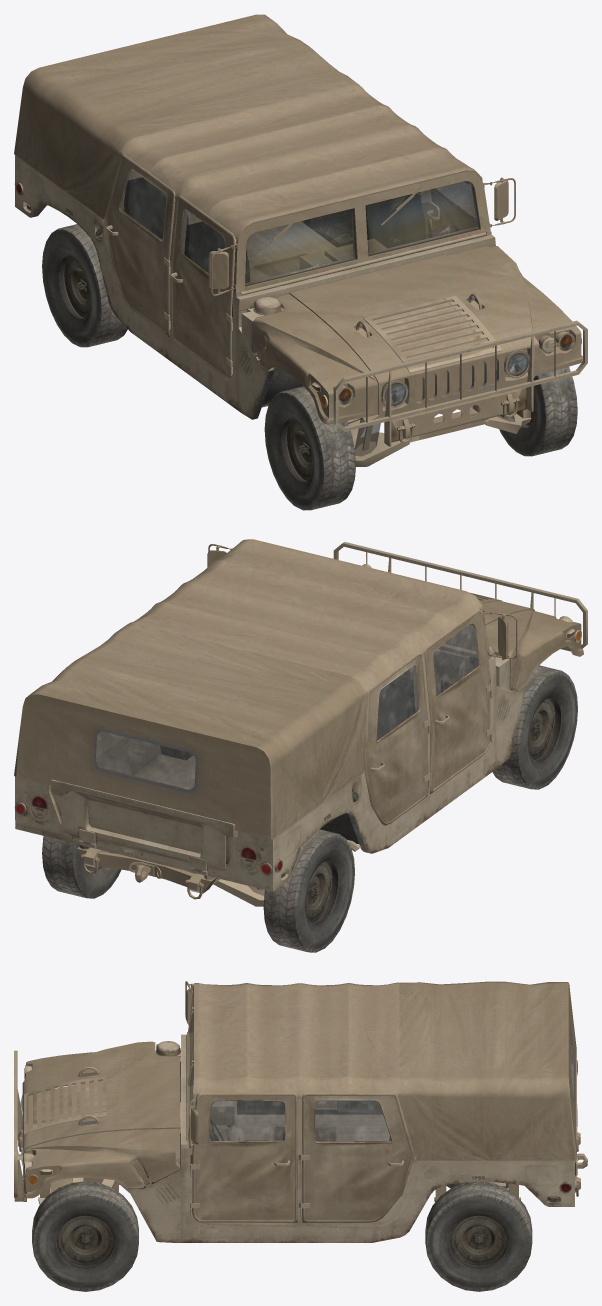
The picture shows the model from 3 angles, top to bottom: view 1: azimuth 30°, elevation 25°; view 2: azimuth 150°, elevation 25°; view 3: azimuth 270°, elevation 25°; orthographic projection. The views are drawn at different scales.
Parts seen in each view (by area): view 1: Object_HMMWV_Utility_mat4_D.jpg_mat_6-HMMWV_Utility_mat4_D.j, Object_HMMWV_Utility_mat1_D.jpg_mat_0-HMMWV_Utility_mat1_D.j, Object_HMMWV_Utility_mat3_D.jpg_mat_1-HMMWV_Utility_mat3_D.j, Object_HMMWV_Utility_mat2_D.jpg_mat_2-HMMWV_Utility_mat2_D.j, Object_HMMWV_Utility_mat5_D.jpg_mat_3-HMMWV_Utility_mat5_D.j, Object_HMMWV_Utility_mat6_D.jpg_mat_4-HMMWV_Utility_mat6_D.j, Object_HMMWV_Utility_mat7_D.jpg_mat_5-HMMWV_Utility_mat7_D.j; view 2: Object_HMMWV_Utility_mat4_D.jpg_mat_6-HMMWV_Utility_mat4_D.j, Object_HMMWV_Utility_mat2_D.jpg_mat_2-HMMWV_Utility_mat2_D.j, Object_HMMWV_Utility_mat3_D.jpg_mat_1-HMMWV_Utility_mat3_D.j, Object_HMMWV_Utility_mat1_D.jpg_mat_0-HMMWV_Utility_mat1_D.j, Object_HMMWV_Utility_mat7_D.jpg_mat_5-HMMWV_Utility_mat7_D.j, Object_HMMWV_Utility_mat6_D.jpg_mat_4-HMMWV_Utility_mat6_D.j, Object_HMMWV_Utility_mat5_D.jpg_mat_3-HMMWV_Utility_mat5_D.j; view 3: Object_HMMWV_Utility_mat4_D.jpg_mat_6-HMMWV_Utility_mat4_D.j, Object_HMMWV_Utility_mat1_D.jpg_mat_0-HMMWV_Utility_mat1_D.j, Object_HMMWV_Utility_mat3_D.jpg_mat_1-HMMWV_Utility_mat3_D.j, Object_HMMWV_Utility_mat2_D.jpg_mat_2-HMMWV_Utility_mat2_D.j, Object_HMMWV_Utility_mat7_D.jpg_mat_5-HMMWV_Utility_mat7_D.j, Object_HMMWV_Utility_mat6_D.jpg_mat_4-HMMWV_Utility_mat6_D.j, Object_HMMWV_Utility_mat5_D.jpg_mat_3-HMMWV_Utility_mat5_D.j.
Boxes of the visible parts, bbox=[...] form: Object_HMMWV_Utility_mat4_D.jpg_mat_6-HMMWV_Utility_mat4_D.j: bbox=[14, 14, 482, 379]; Object_HMMWV_Utility_mat1_D.jpg_mat_0-HMMWV_Utility_mat1_D.j: bbox=[181, 171, 582, 466]; Object_HMMWV_Utility_mat3_D.jpg_mat_1-HMMWV_Utility_mat3_D.j: bbox=[42, 177, 577, 510]; Object_HMMWV_Utility_mat2_D.jpg_mat_2-HMMWV_Utility_mat2_D.j: bbox=[14, 155, 581, 419]; Object_HMMWV_Utility_mat5_D.jpg_mat_3-HMMWV_Utility_mat5_D.j: bbox=[245, 181, 572, 456]; Object_HMMWV_Utility_mat6_D.jpg_mat_4-HMMWV_Utility_mat6_D.j: bbox=[333, 320, 587, 446]; Object_HMMWV_Utility_mat7_D.jpg_mat_5-HMMWV_Utility_mat7_D.j: bbox=[120, 170, 475, 272]; Object_HMMWV_Utility_mat4_D.jpg_mat_6-HMMWV_Utility_mat4_D.j: bbox=[14, 539, 492, 838]; Object_HMMWV_Utility_mat2_D.jpg_mat_2-HMMWV_Utility_mat2_D.j: bbox=[14, 564, 581, 891]; Object_HMMWV_Utility_mat3_D.jpg_mat_1-HMMWV_Utility_mat3_D.j: bbox=[42, 649, 577, 952]; Object_HMMWV_Utility_mat1_D.jpg_mat_0-HMMWV_Utility_mat1_D.j: bbox=[76, 544, 583, 906]; Object_HMMWV_Utility_mat7_D.jpg_mat_5-HMMWV_Utility_mat7_D.j: bbox=[96, 624, 478, 789]; Object_HMMWV_Utility_mat6_D.jpg_mat_4-HMMWV_Utility_mat6_D.j: bbox=[333, 542, 587, 651]; Object_HMMWV_Utility_mat5_D.jpg_mat_3-HMMWV_Utility_mat5_D.j: bbox=[32, 624, 573, 895]; Object_HMMWV_Utility_mat4_D.jpg_mat_6-HMMWV_Utility_mat4_D.j: bbox=[190, 981, 576, 1222]; Object_HMMWV_Utility_mat1_D.jpg_mat_0-HMMWV_Utility_mat1_D.j: bbox=[18, 981, 587, 1204]; Object_HMMWV_Utility_mat3_D.jpg_mat_1-HMMWV_Utility_mat3_D.j: bbox=[32, 1050, 532, 1291]; Object_HMMWV_Utility_mat2_D.jpg_mat_2-HMMWV_Utility_mat2_D.j: bbox=[17, 1032, 577, 1242]; Object_HMMWV_Utility_mat7_D.jpg_mat_5-HMMWV_Utility_mat7_D.j: bbox=[209, 1031, 573, 1141]; Object_HMMWV_Utility_mat6_D.jpg_mat_4-HMMWV_Utility_mat6_D.j: bbox=[14, 1050, 26, 1201]; Object_HMMWV_Utility_mat5_D.jpg_mat_3-HMMWV_Utility_mat5_D.j: bbox=[20, 1003, 575, 1186].
Bounding box in the file's own units: 0.0136 × 0.00999 × 0.025.
Materials: 8 (7 with a texture image).
